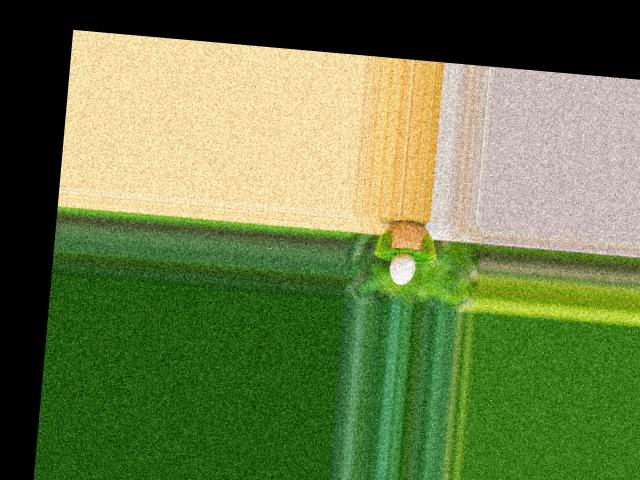egg: (389, 251, 417, 285)
